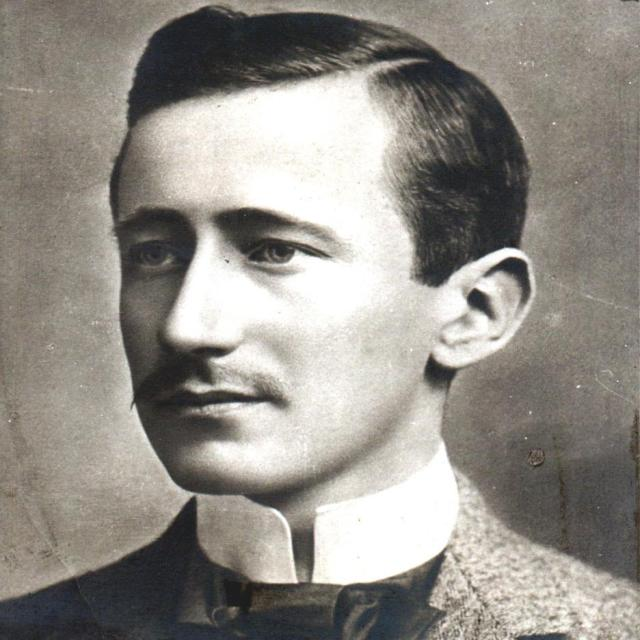no-glass: (119, 232, 326, 271)
